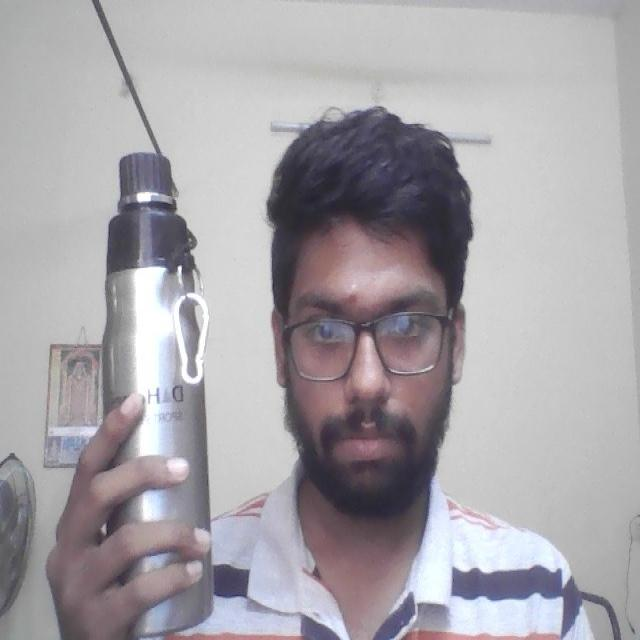Drinking: (101, 147, 218, 632)
